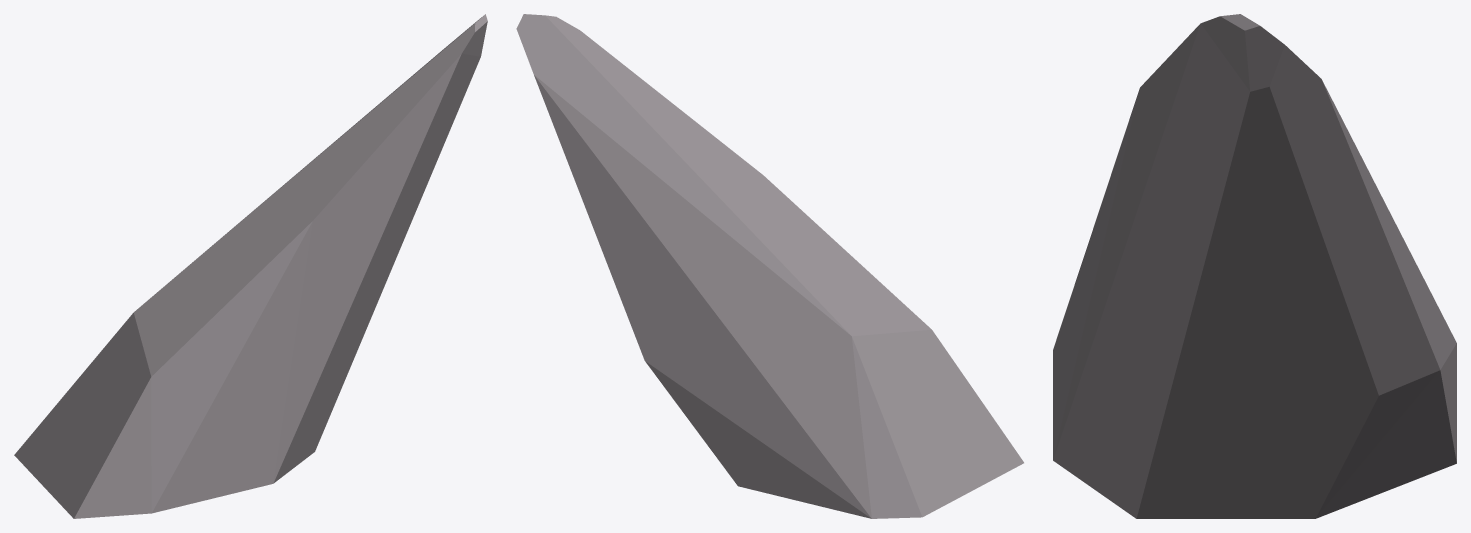
The model's file is Rock_Sharp_m_10.fbx.
3 renders of one model, left to right at view 1: azimuth 30°, elevation 25°; view 2: azimuth 150°, elevation 25°; view 3: azimuth 270°, elevation 25°, orthographic. The views are drawn at different scales.
Visible parts, largest first — view 1: Rock_Sharp_m_10; view 2: Rock_Sharp_m_10; view 3: Rock_Sharp_m_10.
Boxes of the visible parts, <box> form: Rock_Sharp_m_10: <box>14,14,487,518</box>; Rock_Sharp_m_10: <box>516,14,1023,518</box>; Rock_Sharp_m_10: <box>1053,14,1456,518</box>.
Size of the model in its own units: 218 by 167 by 90.
